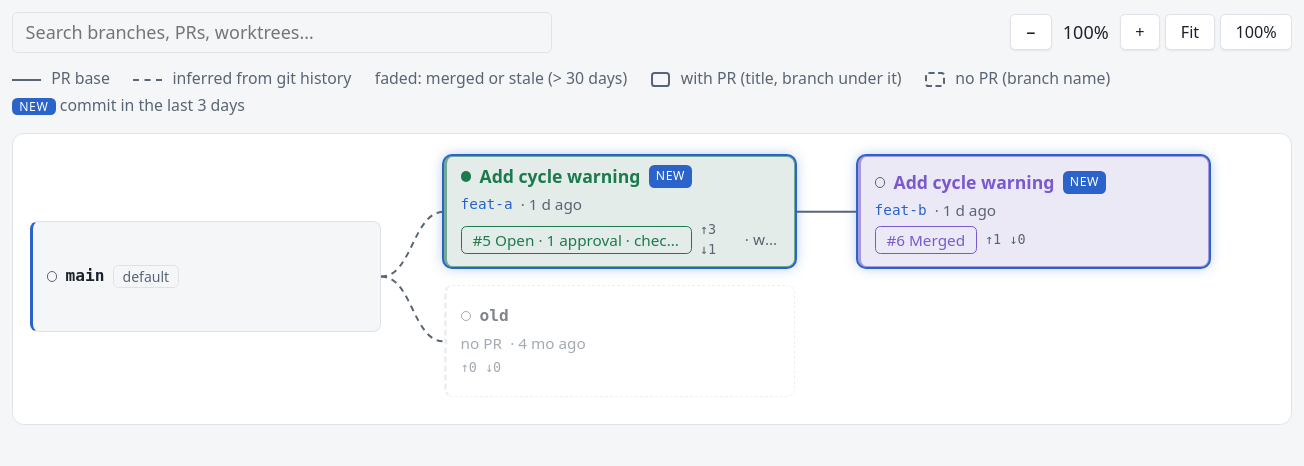
Test: BranchGraph › zoom › starts at 100% and zooms with the buttons
The width and height of the screenshot is (1304, 466).
Expected: the text "100%" is shown, [1063,20,1109,44]
What coordinates should you click on to do the following:
click the button "+"
I would click on:
 (1140, 32)
Its box is [1120,14,1160,50].
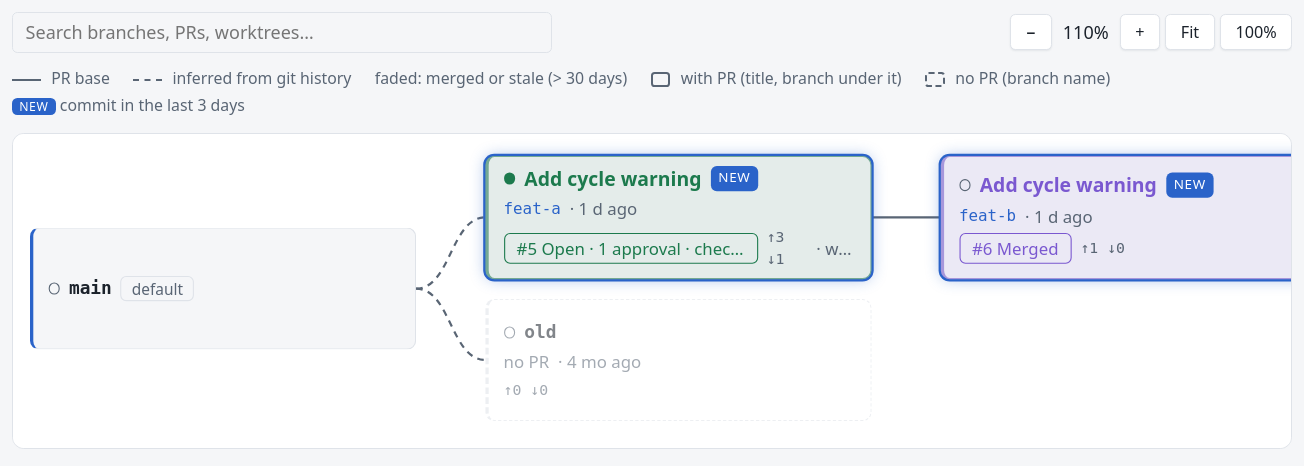
Now the text "110%" is shown, box [1063,20,1109,44]
What coordinates should you click on to do the following:
click the button "−"
I would click on:
 (1031, 32)
Its box is [1010,14,1052,50].
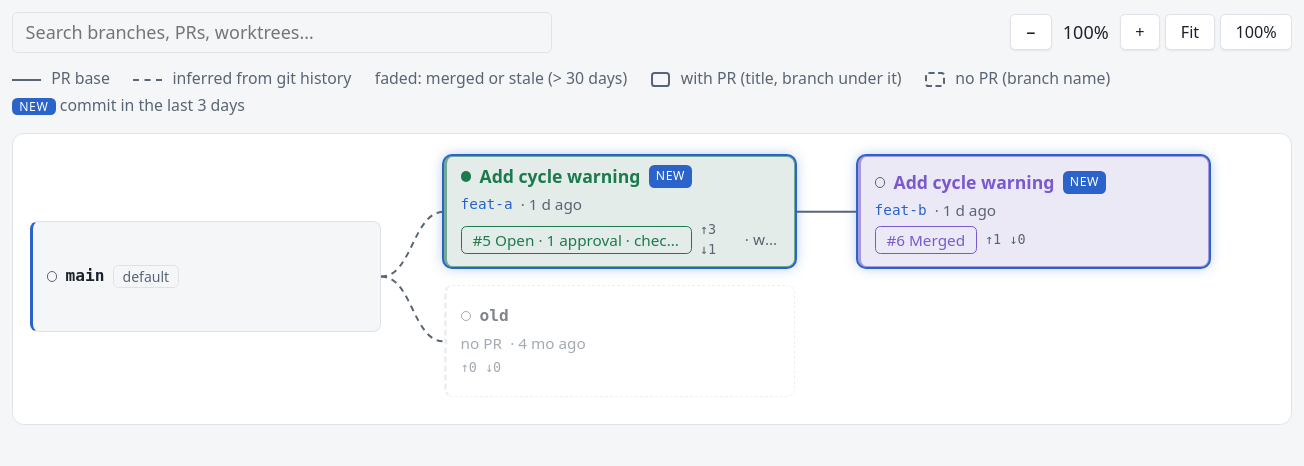
What coordinates should you click on to do the following:
click the button "−"
I would click on:
 (1031, 32)
Its box is [1010,14,1052,50].
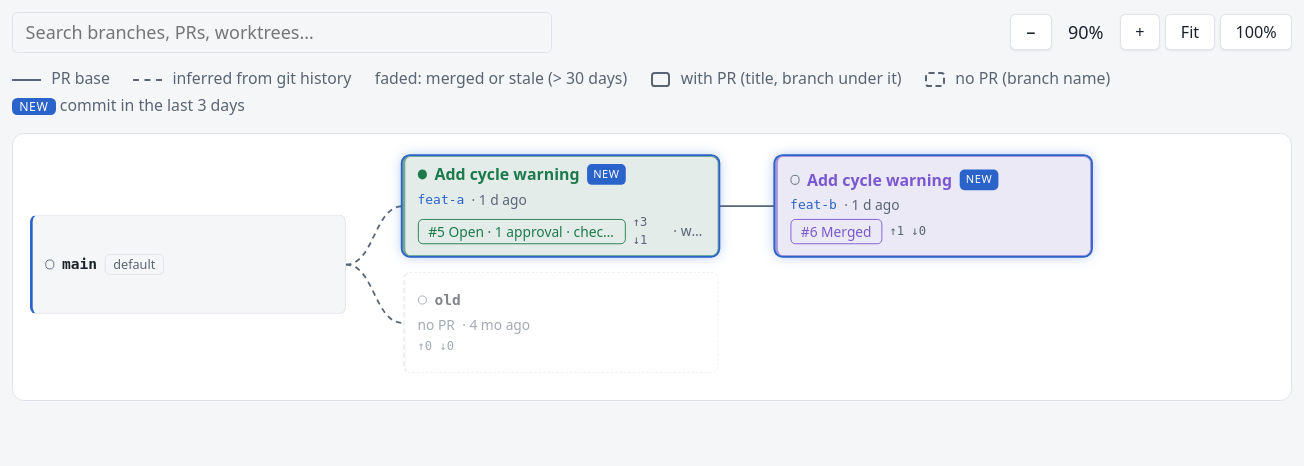
Now the text "90%" is shown, box [1068,20,1104,44]
